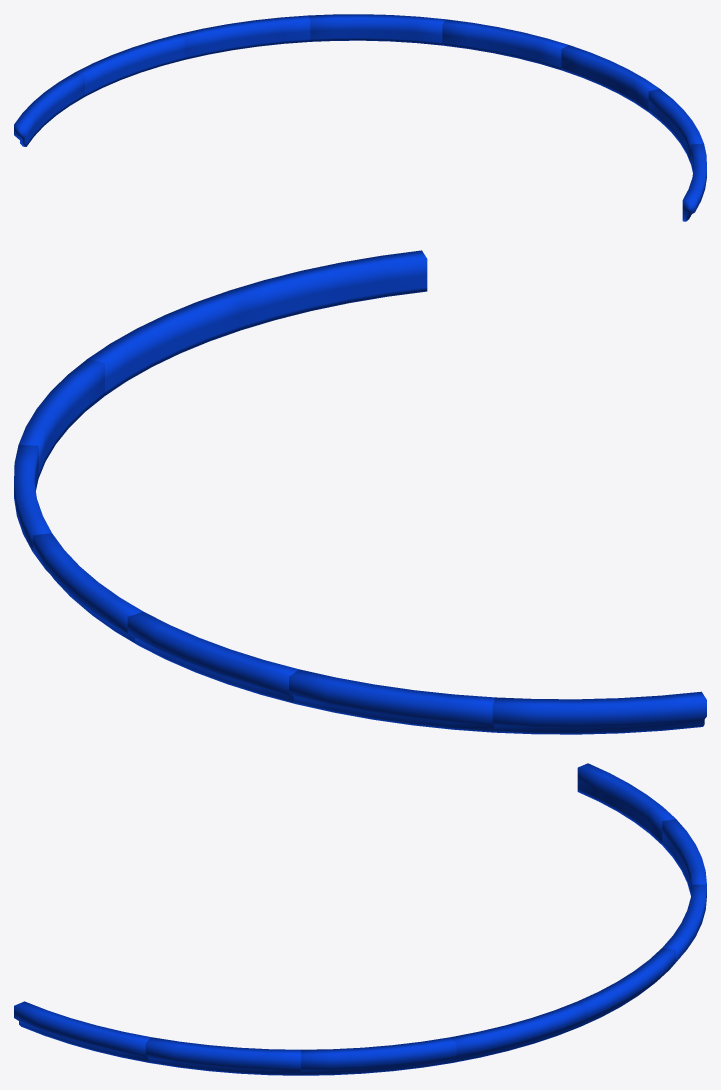
The model's file is Tower_Orn_02.fbx.
The picture shows the model from 3 angles, top to bottom: view 1: azimuth 30°, elevation 25°; view 2: azimuth 150°, elevation 25°; view 3: azimuth 270°, elevation 25°; orthographic projection. The views are drawn at different scales.
Visible parts, largest first — view 1: Tower_Orn_02; view 2: Tower_Orn_02; view 3: Tower_Orn_02.
Part boxes in pixels (left/top/right/bottom): Tower_Orn_02: left=14, top=14, right=706, bottom=221; Tower_Orn_02: left=14, top=250, right=706, bottom=734; Tower_Orn_02: left=14, top=763, right=706, bottom=1075.
Size of the model in its own units: 1393 by 53.75 by 1393.
